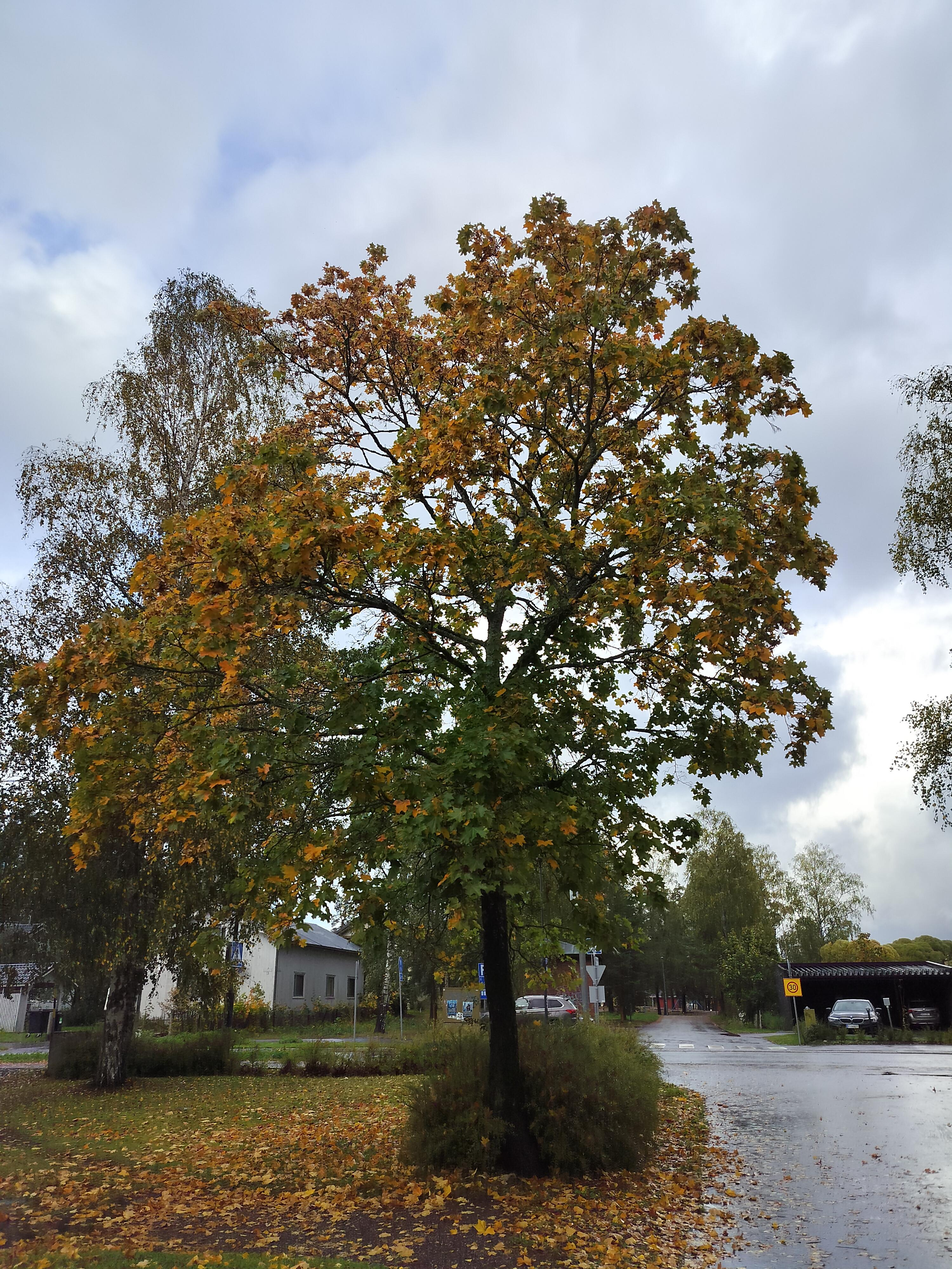Maple: (216, 190, 799, 1009)
